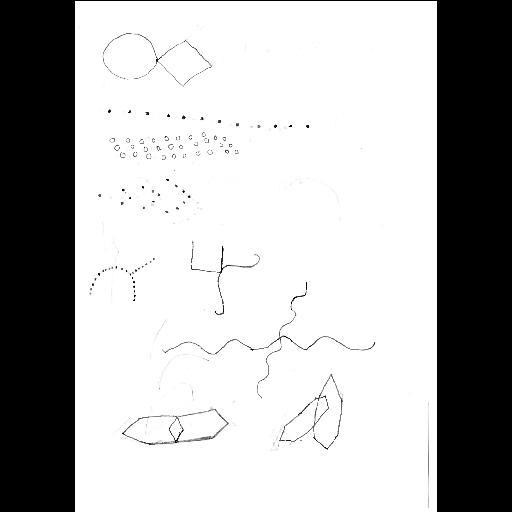shape-1: (101, 30, 213, 88)
shape-2: (107, 104, 309, 128)
shape-3: (109, 134, 241, 160)
shape-4: (97, 175, 193, 215)
shape-5: (190, 237, 262, 315)
shape-6: (88, 256, 156, 302)
shape-7: (162, 284, 378, 398)
shape-8: (280, 372, 342, 450)
shape-9: (122, 406, 228, 446)
